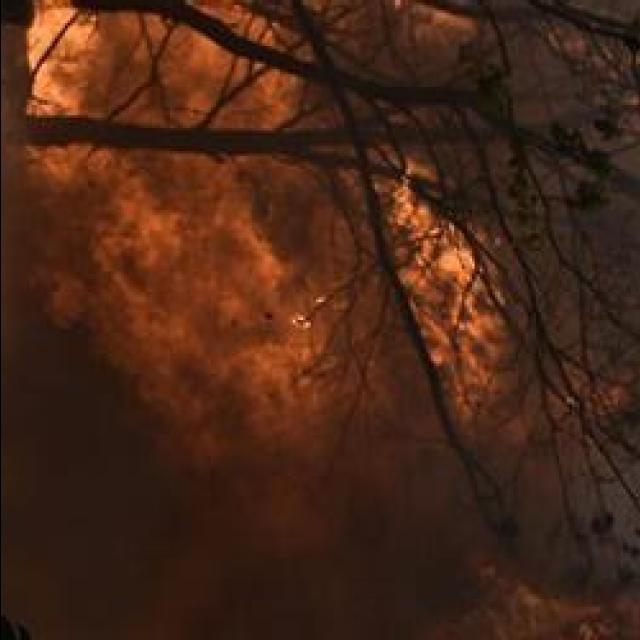smoke: (0, 306, 211, 488), (140, 449, 321, 632), (0, 474, 172, 618), (331, 467, 465, 633), (58, 186, 242, 278), (225, 186, 333, 268), (54, 45, 124, 96), (503, 464, 555, 530)
